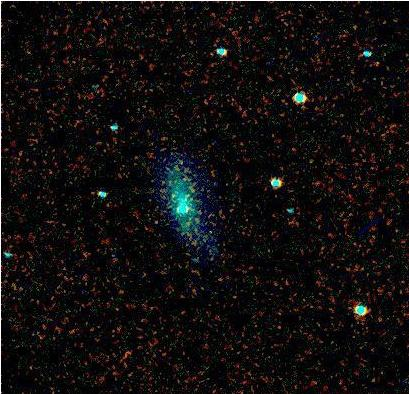star: (138, 209, 168, 239)
